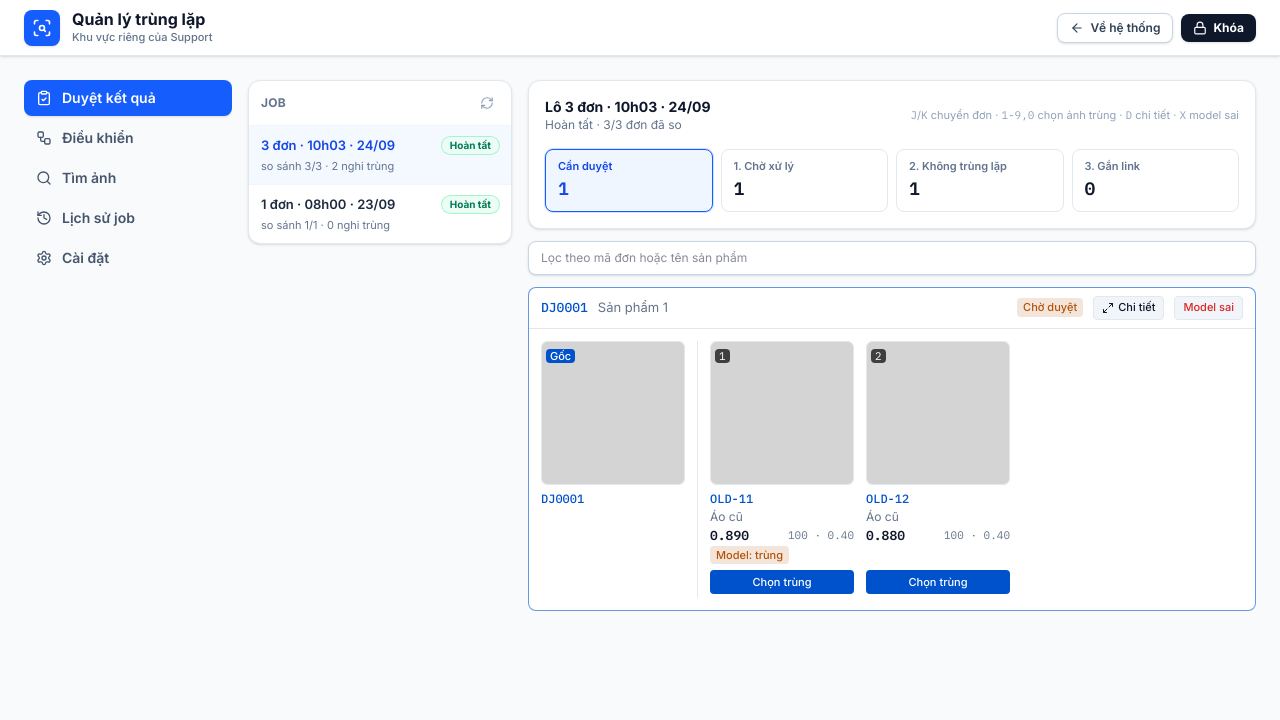
Test case: duplicate review page › lists the jobs on the left and switches job with a click
The width and height of the screenshot is (1280, 720).
Expected: the element with test id "order-DJ0001" is shown, x1=528 y1=286 x2=1256 y2=611
Click the button "1 đơn · 08h00 · 23/09 Hoàn tất so sánh 1/1 · 0 nghi trùng": [380, 214] box x1=249 y1=185 x2=511 y2=243
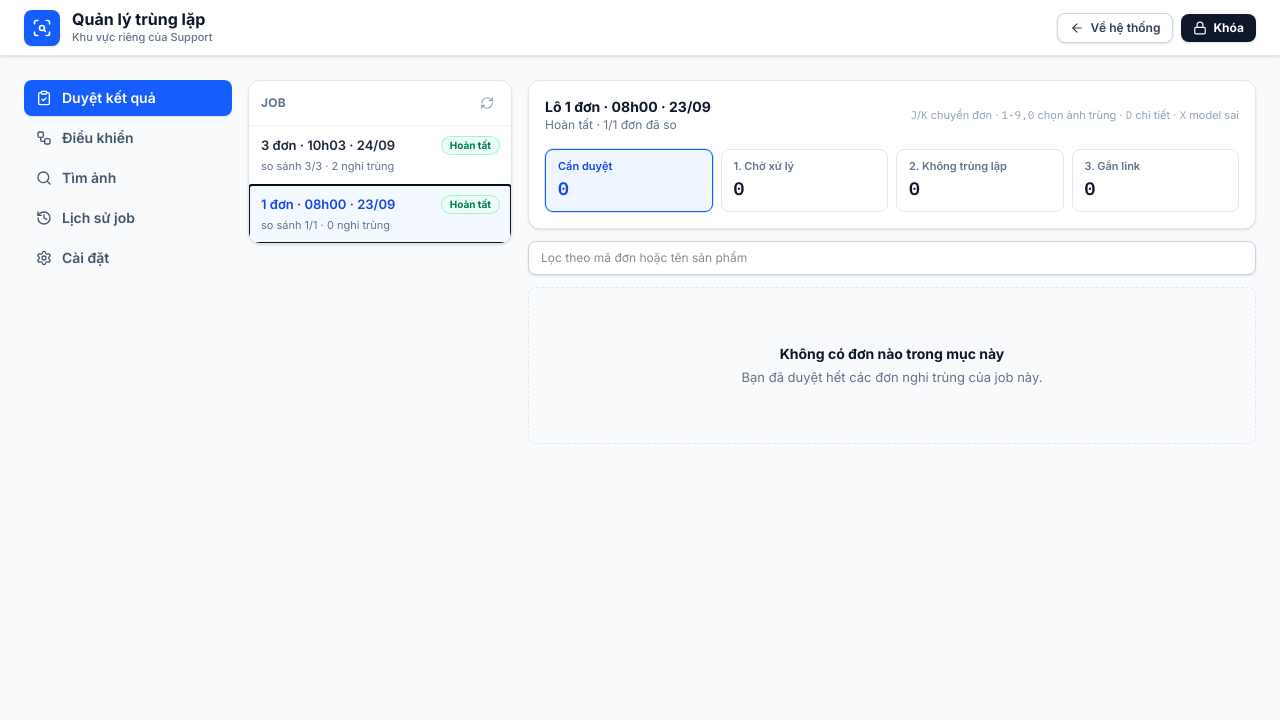
Expected: the text "Không có đơn nào trong mục này" is shown, x1=780 y1=344 x2=1004 y2=362
